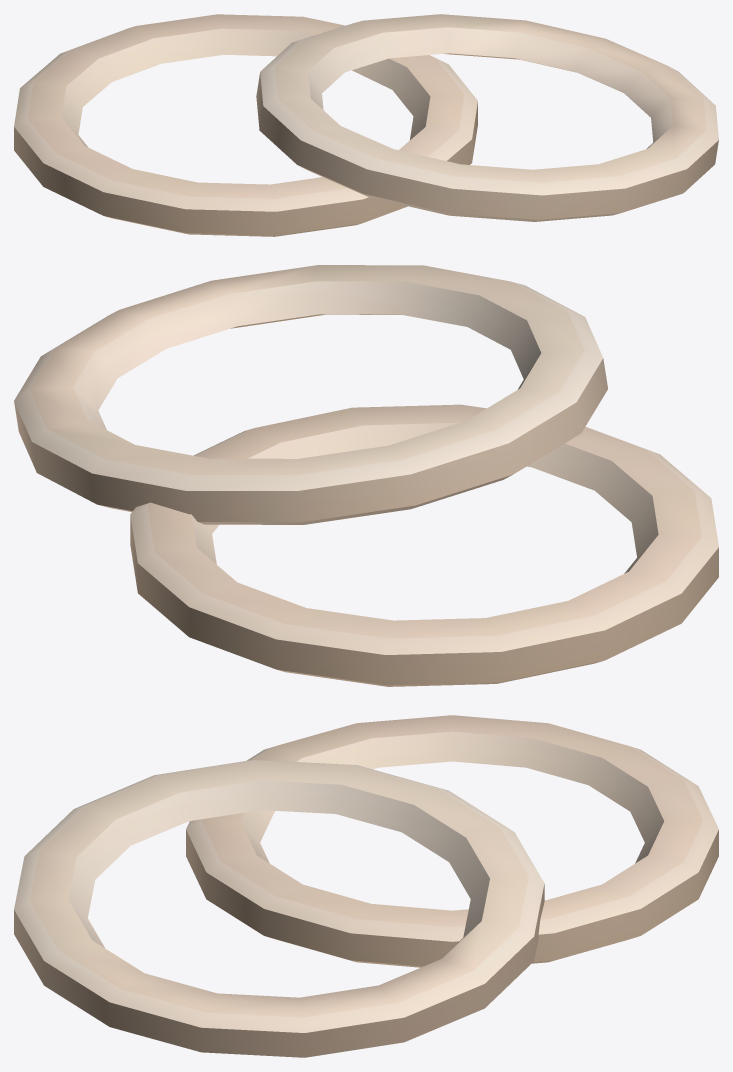
Rendered from food-ingredient-onion-rings.glb.
The picture shows the model from 3 angles, top to bottom: view 1: azimuth 30°, elevation 25°; view 2: azimuth 150°, elevation 25°; view 3: azimuth 270°, elevation 25°; orthographic projection. The views are drawn at different scales.
Visible parts, largest first — view 1: food_ingredient_onion_rings; view 2: food_ingredient_onion_rings; view 3: food_ingredient_onion_rings.
Boxes of the visible parts, x1,y1,x2,y2 form: food_ingredient_onion_rings: [14, 14, 718, 236]; food_ingredient_onion_rings: [14, 265, 718, 686]; food_ingredient_onion_rings: [14, 715, 718, 1057].
Size of the model in its own units: 0.7758 by 0.1063 by 0.7296.
Materials: 1 (1 with a texture image).
